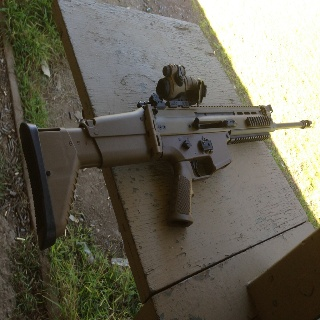rifle: (19, 64, 314, 252)
